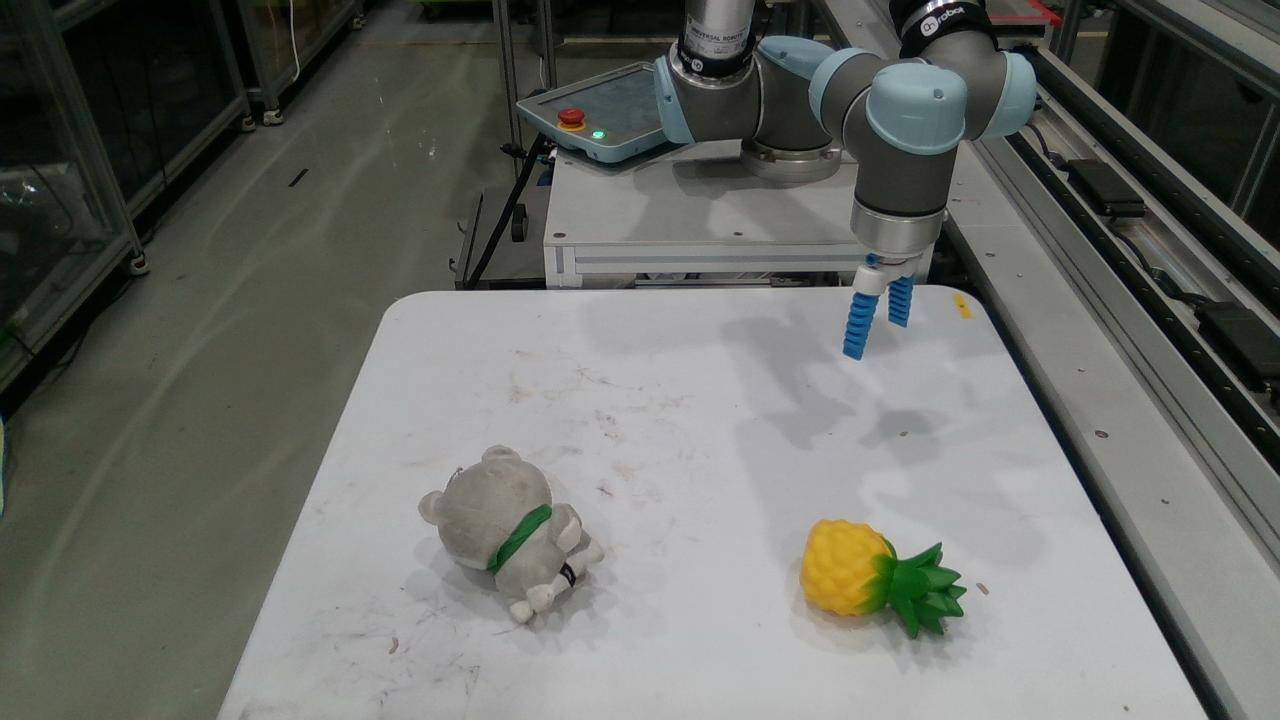UR5: (653, 0, 1036, 297)
gripper_left: (843, 292, 880, 360)
gripper_right: (889, 273, 914, 328)
target: (418, 444, 604, 623), (799, 519, 967, 640)
